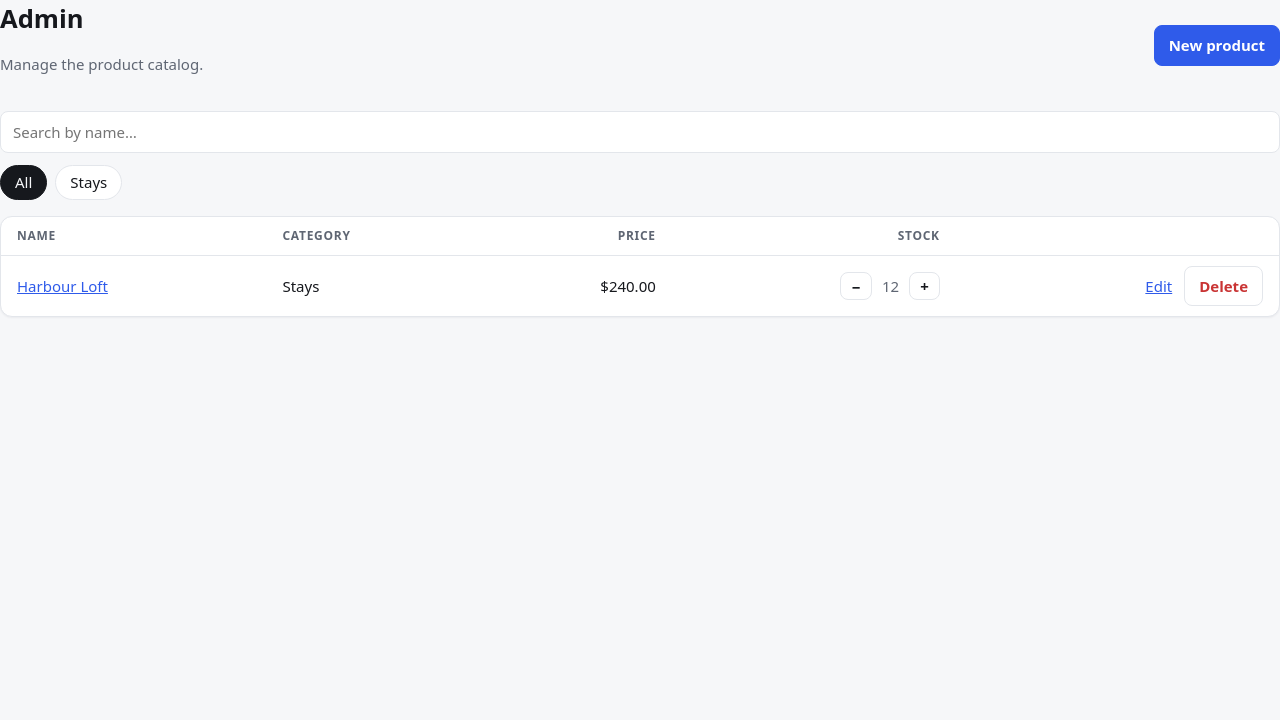
Test: Admin catalog list › keeps the row and shows the error when the delete fails
Expected: the table is shown, [1, 217, 1279, 316]
Click the button with aria-label "Delete Harbour Loft" at (1224, 286), box [1184, 266, 1263, 306]
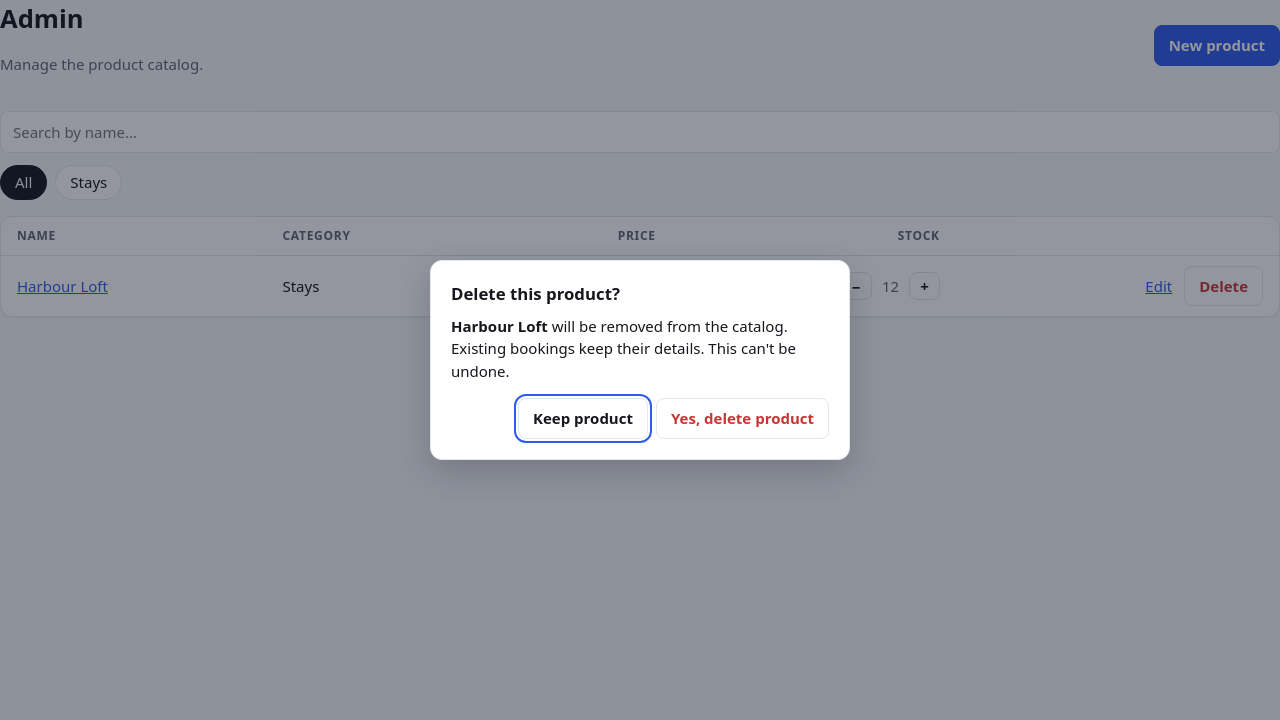
Click the button "Yes, delete product" at (742, 418), box [656, 398, 829, 439]
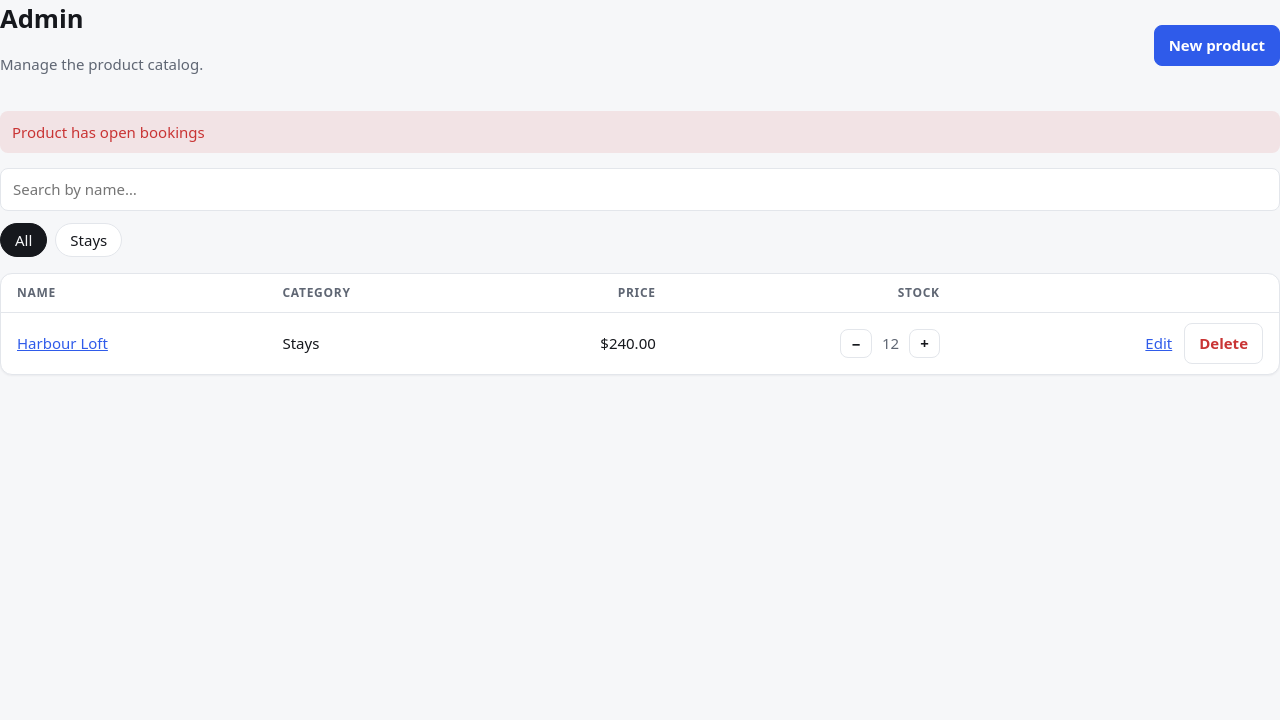
Expected: the column heading "Harbour Loft" is shown, [1, 313, 266, 374]
Expected: the message reads "Product has open bookings", [12, 122, 205, 142]
Expected: the dialog is gone
